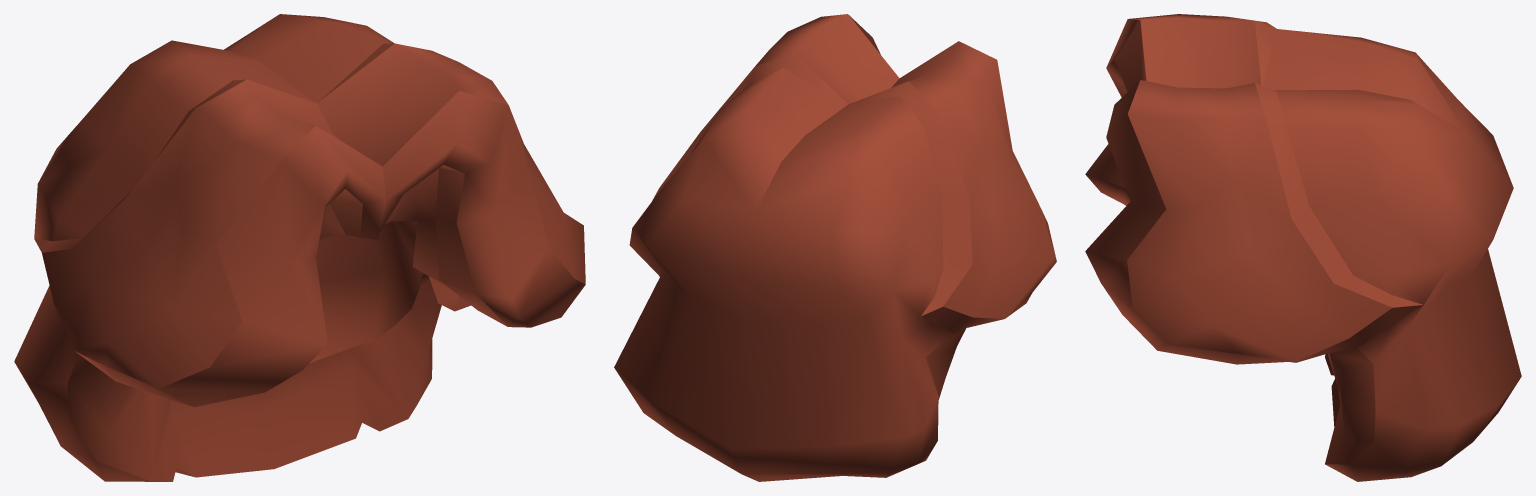
The model's file is Hair_Brown_6.fbx.
The picture shows the model from 3 angles, left to right: view 1: azimuth 30°, elevation 25°; view 2: azimuth 150°, elevation 25°; view 3: azimuth 270°, elevation 25°; orthographic projection. The views are drawn at different scales.
Visible parts, largest first — view 1: Hair_Brown_6; view 2: Hair_Brown_6; view 3: Hair_Brown_6.
Boxes of the visible parts, x1,y1,x2,y2 form: Hair_Brown_6: (14, 14, 585, 481); Hair_Brown_6: (614, 14, 1056, 481); Hair_Brown_6: (1085, 14, 1521, 481).
Size of the model in its own units: 71.21 by 65.88 by 65.95.
